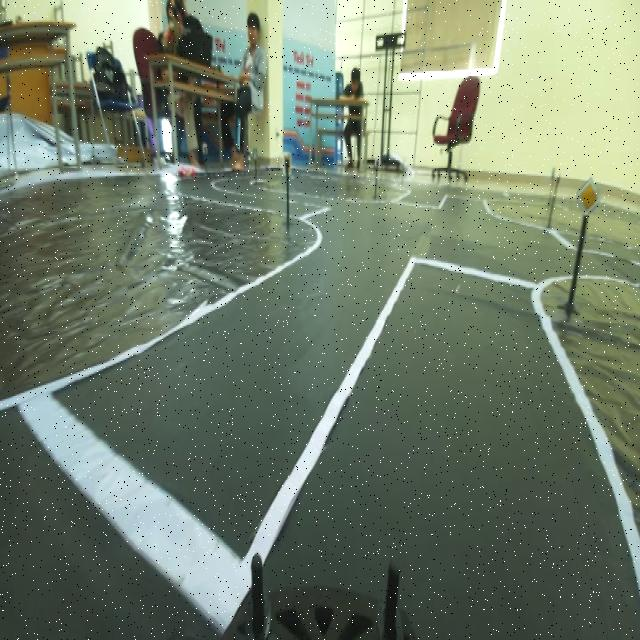priority: (575, 173, 604, 226)
